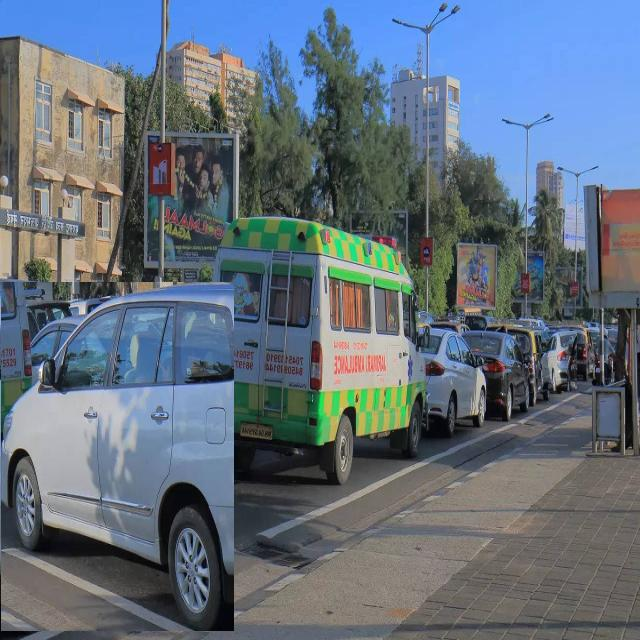car: (0, 282, 234, 631), (422, 327, 486, 436), (462, 331, 530, 420), (508, 327, 550, 404), (541, 331, 576, 391), (560, 324, 595, 380)
emergency: (205, 218, 428, 484)
